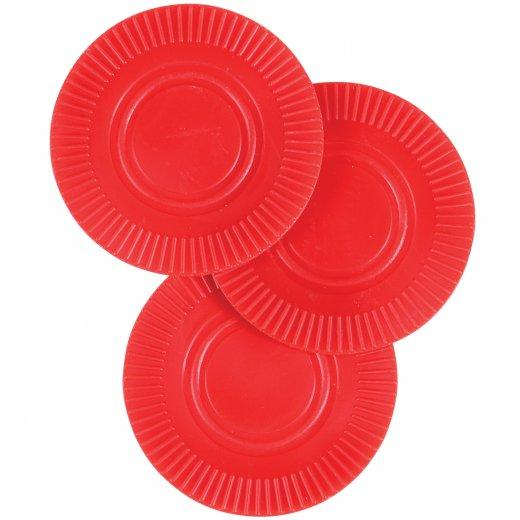chip-red: (51, 5, 323, 275), (215, 82, 474, 353), (124, 277, 397, 515)
